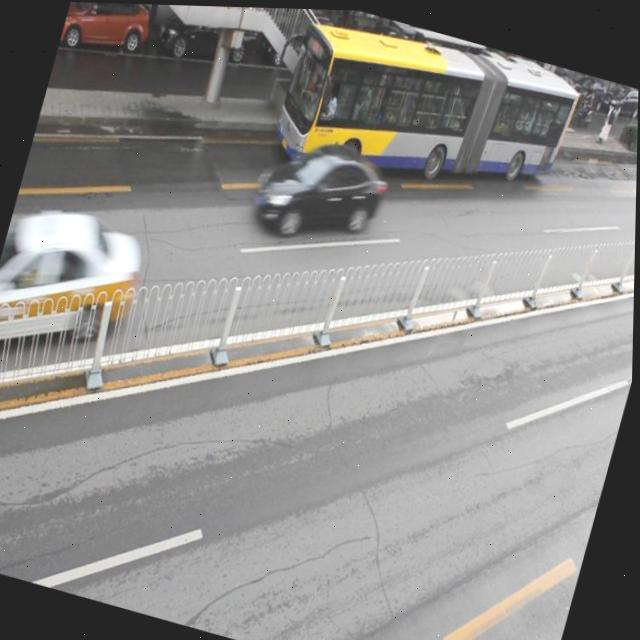car: (0, 190, 152, 374), (250, 122, 394, 256), (153, 4, 260, 70), (59, 1, 156, 63), (258, 6, 340, 79), (344, 20, 425, 93)
van: (268, 6, 583, 228)
